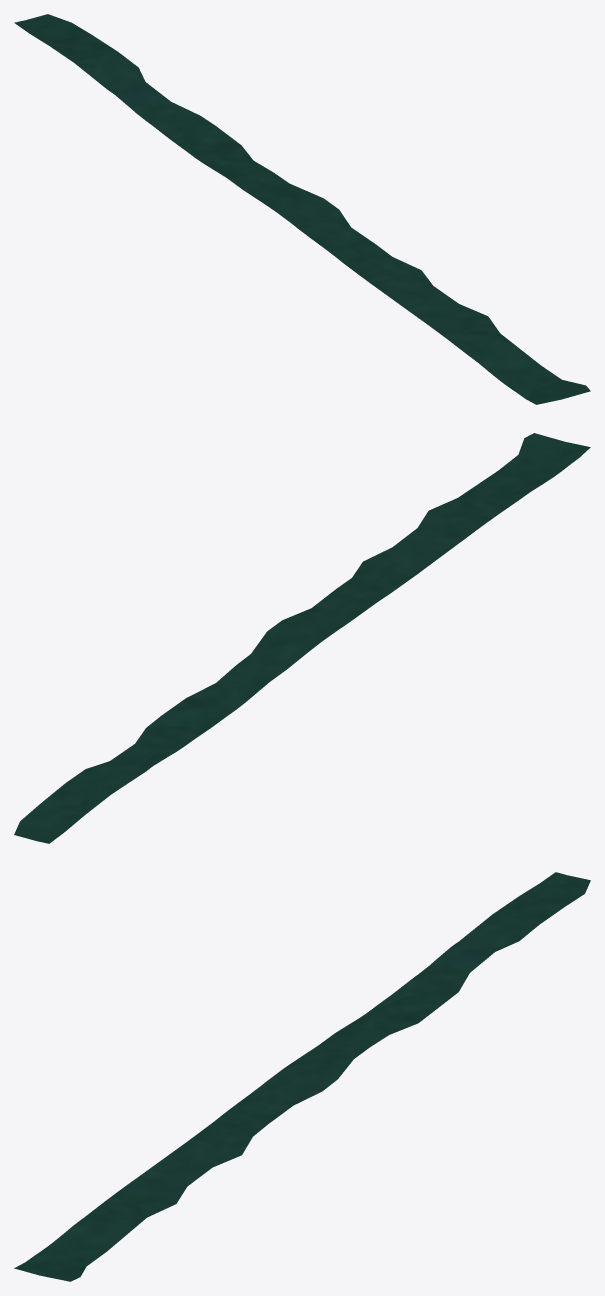
The picture shows the model from 3 angles, top to bottom: view 1: azimuth 30°, elevation 25°; view 2: azimuth 150°, elevation 25°; view 3: azimuth 330°, elevation 25°; orthographic projection. The views are drawn at different scales.
Bounding box in the file's own units: 6.57 × 0.776 × 104.
Materials: 1 (1 with a texture image).
